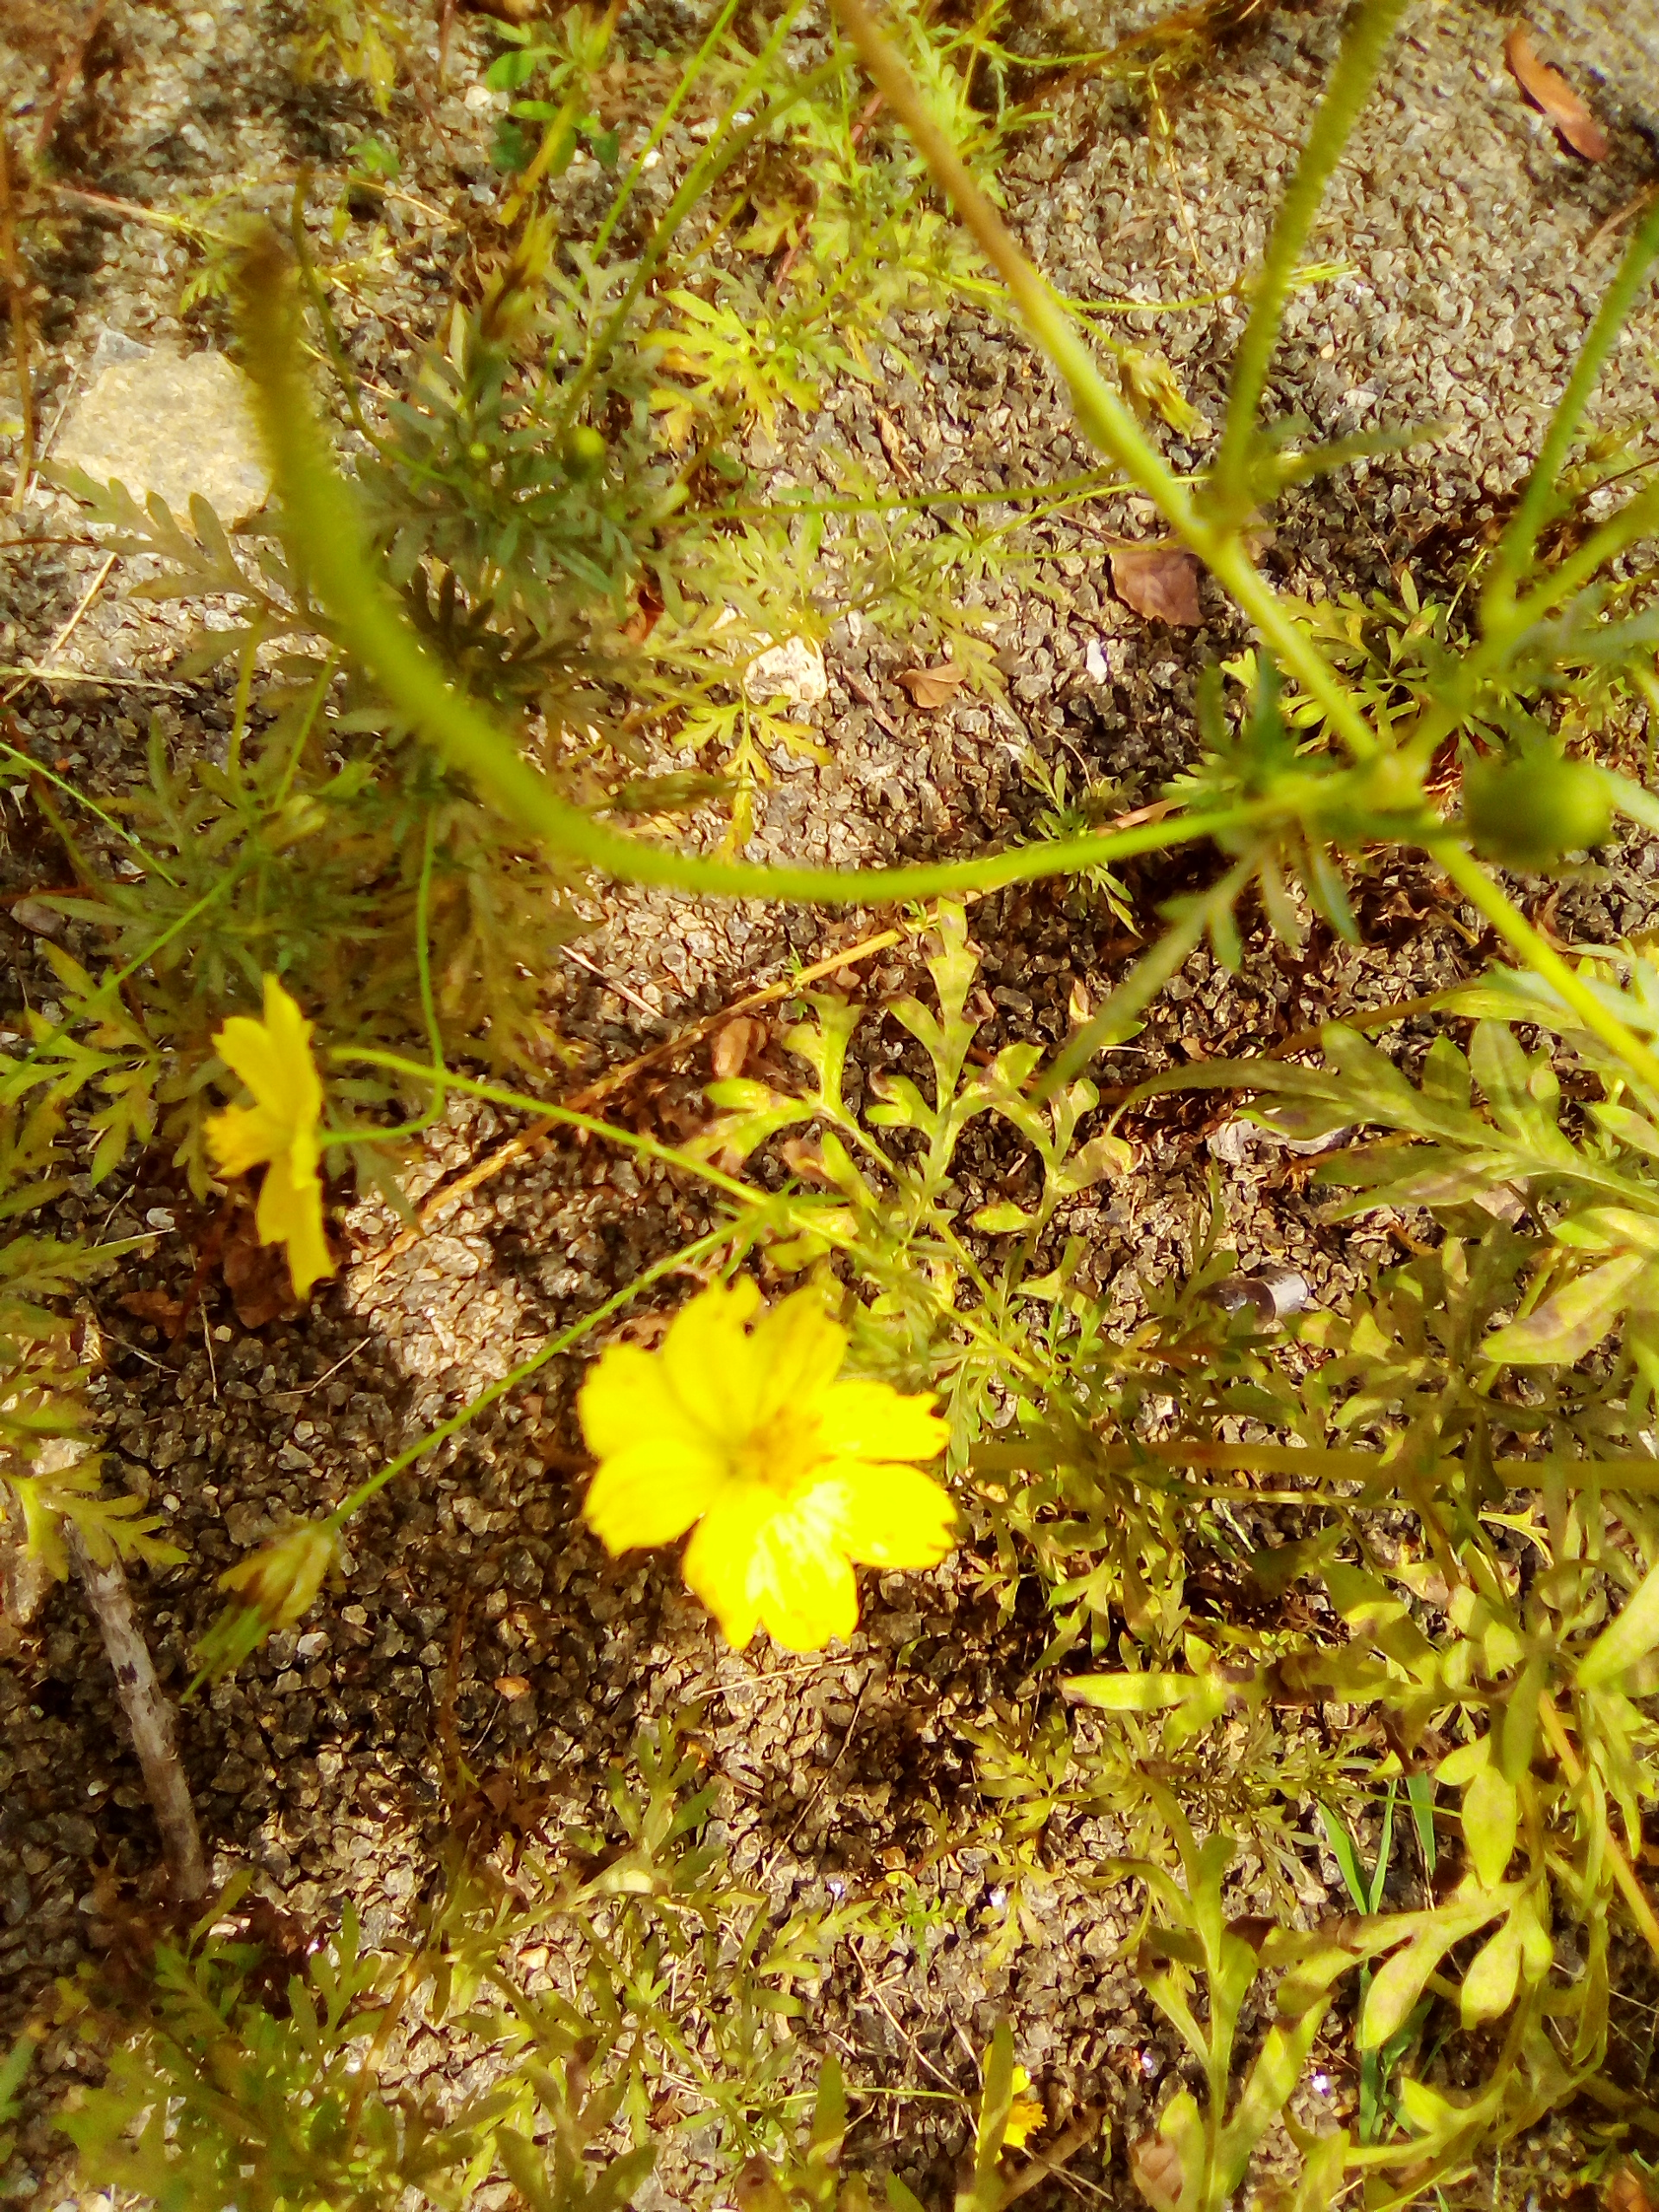kahamala: (606, 1289, 1004, 1672), (181, 975, 399, 1289)
